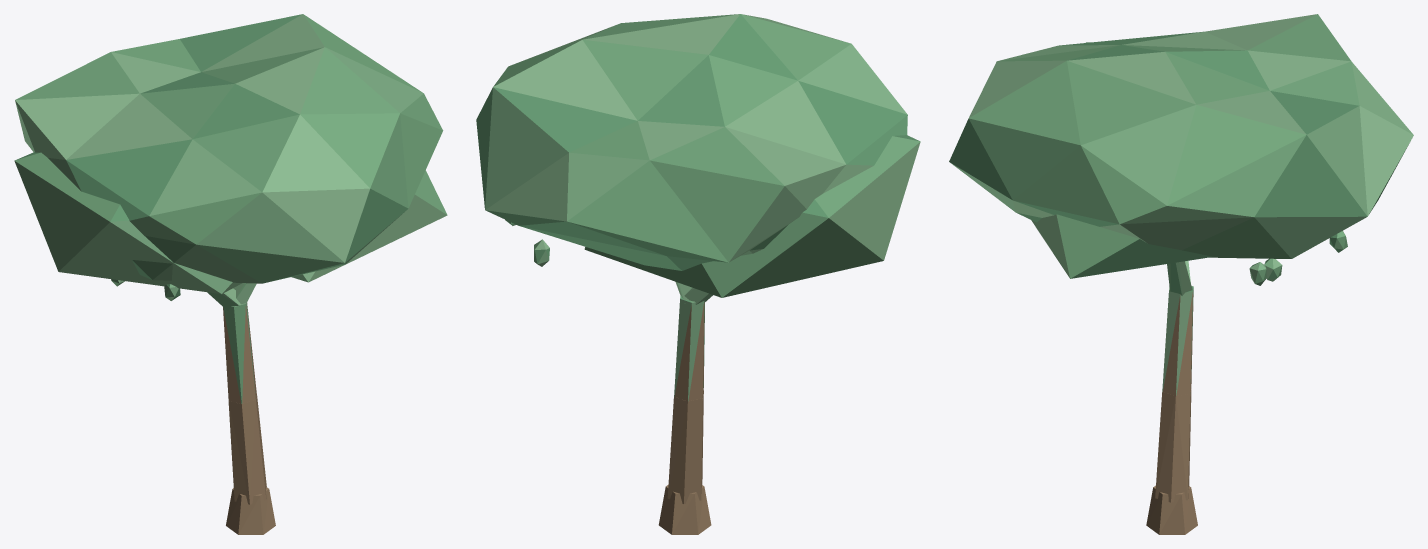
The model's file is broadleaf-tree-01.glb.
3 views of the same model, side by side, from view 1: azimuth 30°, elevation 25°; view 2: azimuth 150°, elevation 25°; view 3: azimuth 270°, elevation 25° (orthographic). The views are drawn at different scales.
Visible parts, largest first — view 1: broadleaf_tree_01; view 2: broadleaf_tree_01; view 3: broadleaf_tree_01.
Boxes of the visible parts, <box> form: broadleaf_tree_01: <box>14,14,447,534</box>; broadleaf_tree_01: <box>476,14,920,534</box>; broadleaf_tree_01: <box>949,14,1413,534</box>.
Bounding box in the file's own units: 3.07 × 3.65 × 3.32.
